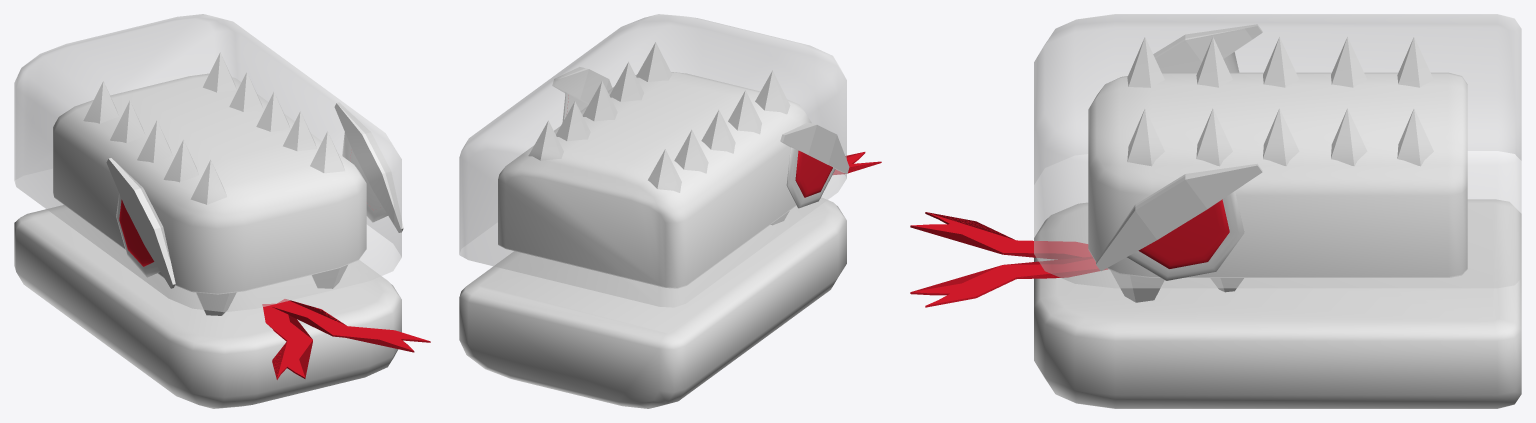
Rendered from WhiteSnake.fbx.
The picture shows the model from 3 angles, left to right: view 1: azimuth 30°, elevation 25°; view 2: azimuth 150°, elevation 25°; view 3: azimuth 270°, elevation 25°; orthographic projection. The views are drawn at different scales.
Parts seen in each view (by area): view 1: Cube.005, Cube.006, Cube, Cone.009, Cube.003, Cube.002, Cube.001, Cube.004, Cylinder.004, Cylinder.003, Cone.003, Cylinder.001 (+1 smaller); view 2: Cube.005, Cube, Cube.006, Cone.009, Cube.003, Cube.002, Cylinder.004, Cylinder.001; view 3: Cube.005, Cube, Cube.006, Cone.009, Cube.002, Cube.001, Cube.004, Cylinder.002, Cube.003, Cylinder.003, Cone.002.
Part boxes in pixels (left/top/right/bottom): Cube.005: left=14, top=14, right=401, bottom=312; Cube.006: left=53, top=73, right=366, bottom=294; Cube: left=14, top=205, right=401, bottom=408; Cone.009: left=83, top=52, right=344, bottom=204; Cube.003: left=106, top=158, right=175, bottom=288; Cube.002: left=334, top=102, right=403, bottom=232; Cube.001: left=272, top=299, right=430, bottom=352; Cube.004: left=262, top=304, right=312, bottom=379; Cylinder.004: left=119, top=199, right=154, bottom=266; Cylinder.003: left=342, top=133, right=387, bottom=222; Cone.003: left=196, top=292, right=236, bottom=315; Cylinder.001: left=116, top=193, right=160, bottom=277; Cube.005: left=459, top=14, right=846, bottom=307; Cube: left=459, top=197, right=846, bottom=408; Cube.006: left=498, top=72, right=811, bottom=288; Cone.009: left=528, top=42, right=790, bottom=192; Cube.003: left=780, top=122, right=849, bottom=173; Cube.002: left=552, top=67, right=612, bottom=104; Cylinder.004: left=795, top=150, right=832, bottom=197; Cylinder.001: left=786, top=147, right=835, bottom=208; Cube.005: left=1034, top=14, right=1521, bottom=288; Cube: left=1034, top=199, right=1521, bottom=408; Cube.006: left=1088, top=72, right=1467, bottom=277; Cone.009: left=1127, top=37, right=1433, bottom=166; Cube.002: left=1096, top=163, right=1262, bottom=271; Cube.001: left=910, top=257, right=1107, bottom=307; Cube.004: left=910, top=212, right=1091, bottom=259; Cylinder.002: left=1138, top=199, right=1229, bottom=268; Cube.003: left=1153, top=24, right=1262, bottom=72; Cylinder.003: left=1127, top=191, right=1244, bottom=280; Cone.002: left=1110, top=270, right=1164, bottom=302.
Bounding box in the file's own units: 211 × 205 × 376.
